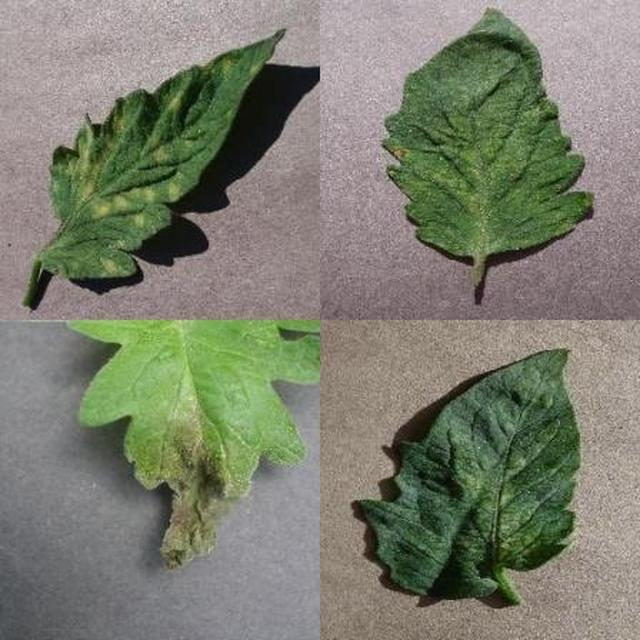Leaf Mold: (236, 188, 640, 640)
